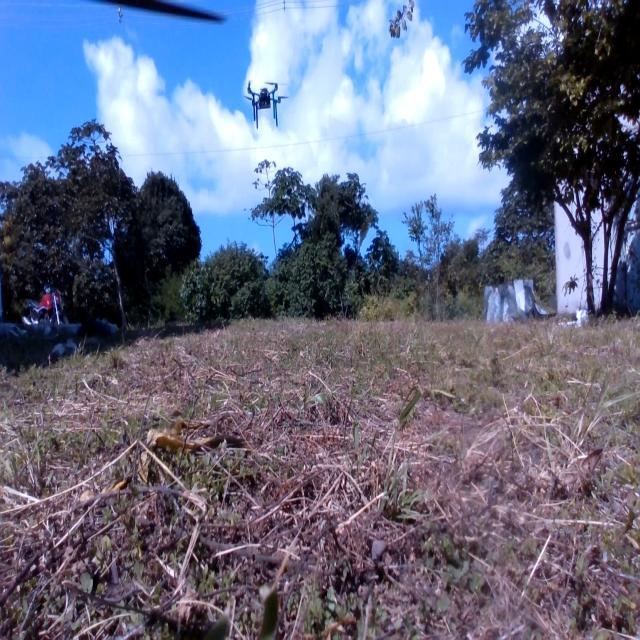-uav-: (240, 74, 291, 141)
